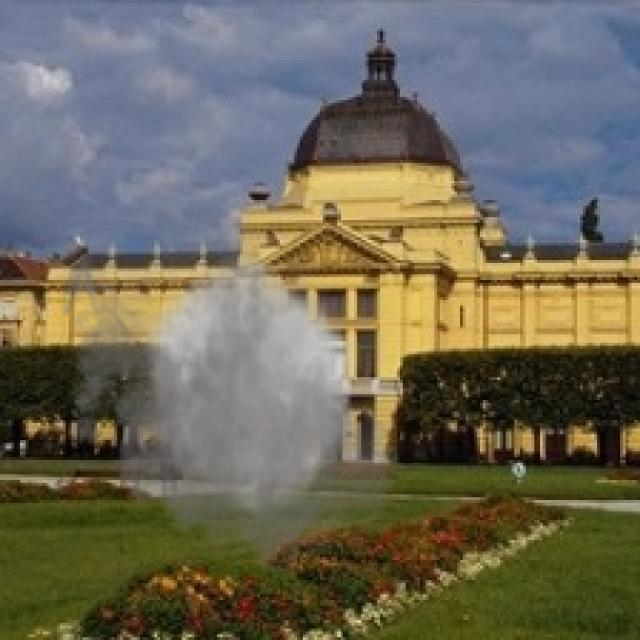Smoke: (49, 188, 408, 586)
